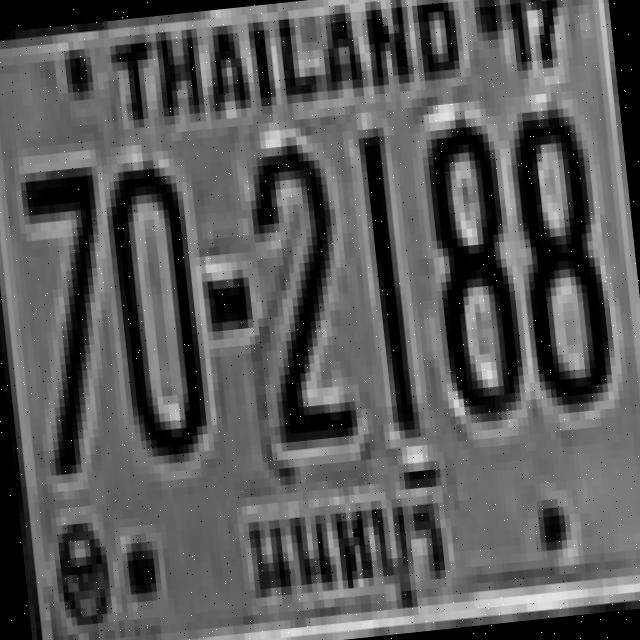0: (101, 154, 204, 454)
1: (356, 128, 414, 432)
2: (242, 134, 351, 443)
7: (20, 167, 116, 467)
8: (505, 99, 609, 408), (418, 108, 522, 416)
Nonthaburi: (226, 448, 463, 628)
